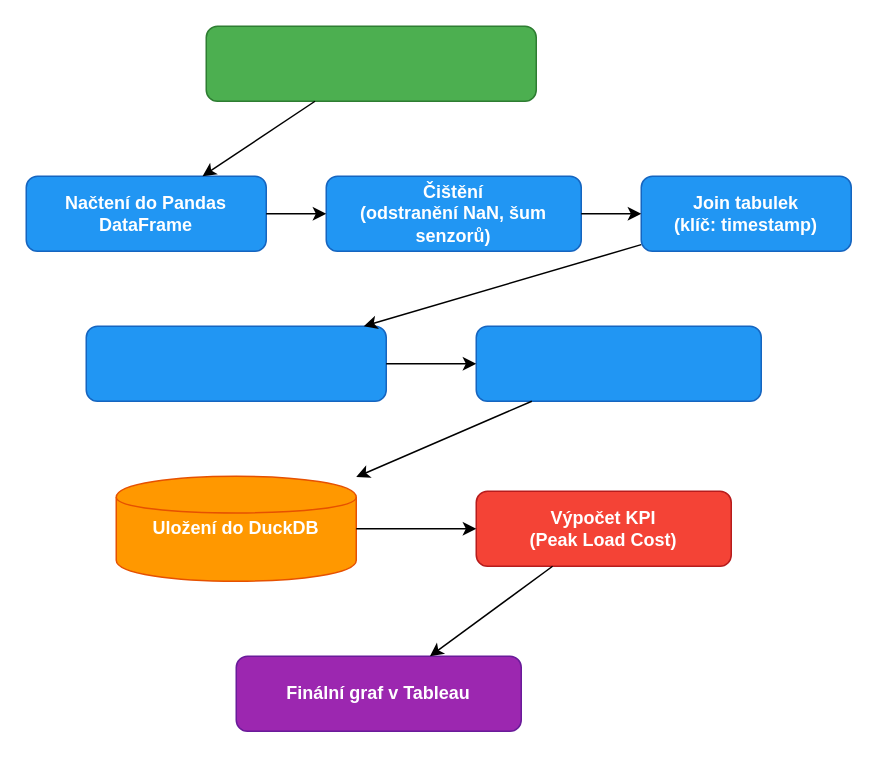
Image size: 878x758. Some labels were removed from this diagram. Here are the shapes that lost their labels. From the top down, the centre of each, then its label:
At pixel 370 63: "real_weather.csv synthetic_smart_meters.parquet".
At pixel 235 363: "Výpočet Net Load (Spotřeba - Solární výroba)".
At pixel 618 363: "Agregace večerní špička (18:00 - 21:00)".
